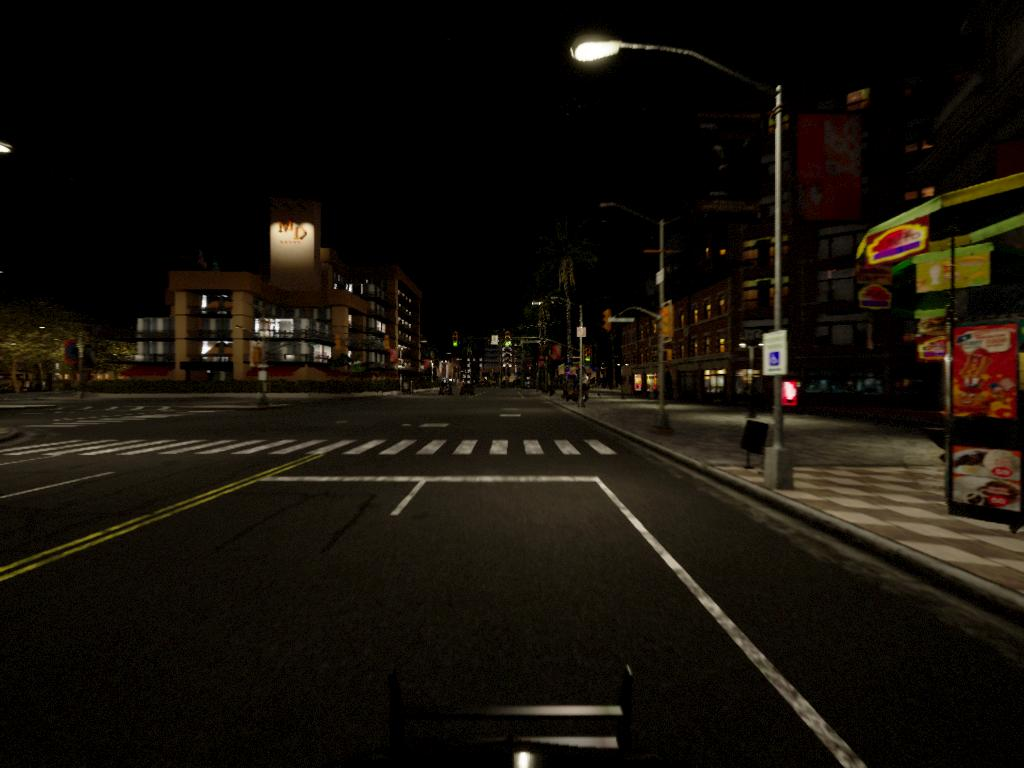traffic_light: (659, 309, 676, 345), (602, 309, 614, 335), (504, 332, 513, 347), (453, 331, 460, 349), (585, 349, 593, 364)
